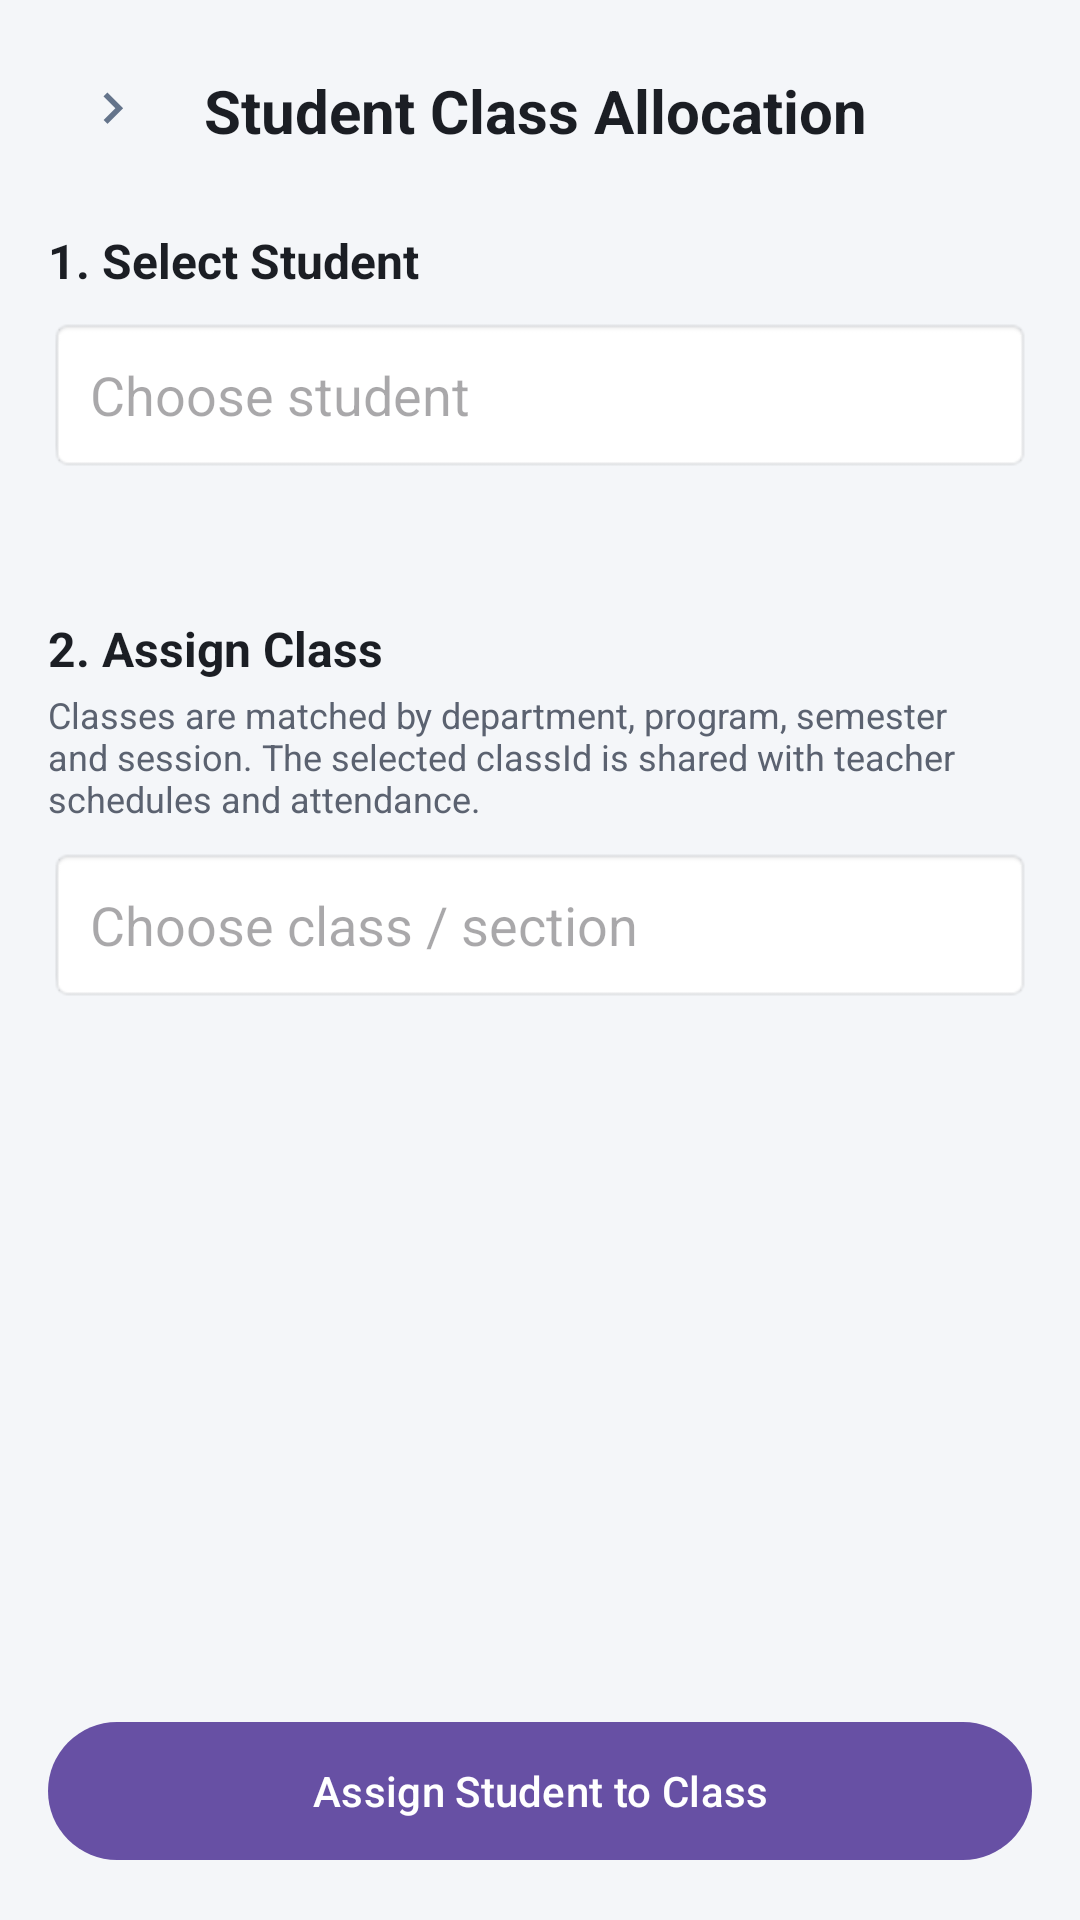

Screen size 1080*1920. Icon name, then its center in pixels as (x=x, y=y):
arrow: (x=113, y=108)
